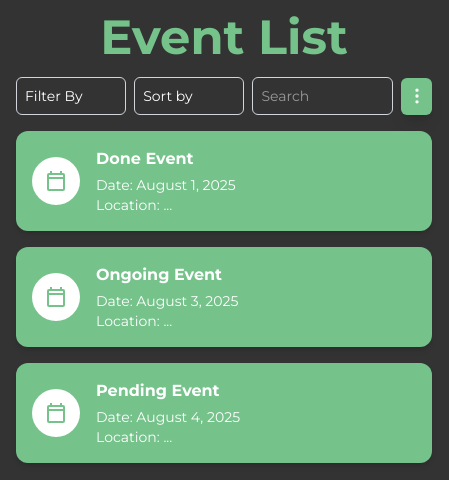
it: Search and Filtering Event List › searches events by name
Check: the text "Ongoing Event" is shown, box [96, 265, 222, 284]
In the field with placeholder "Search": [323, 96] box [252, 77, 393, 115], type "Pending"
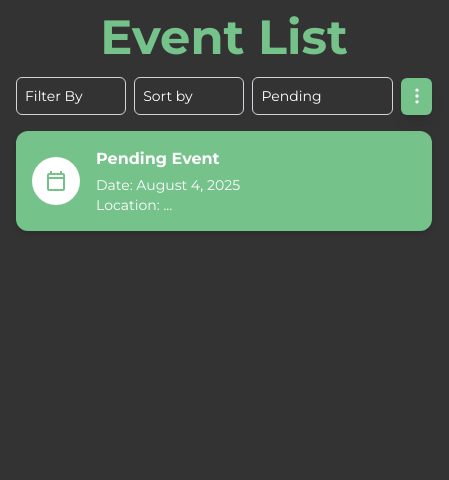
Check: the text "Pending Event" is shown, box [96, 149, 220, 168]
Check: the link "Ongoing Event" is gone
Check: the link "Done Event" is gone
